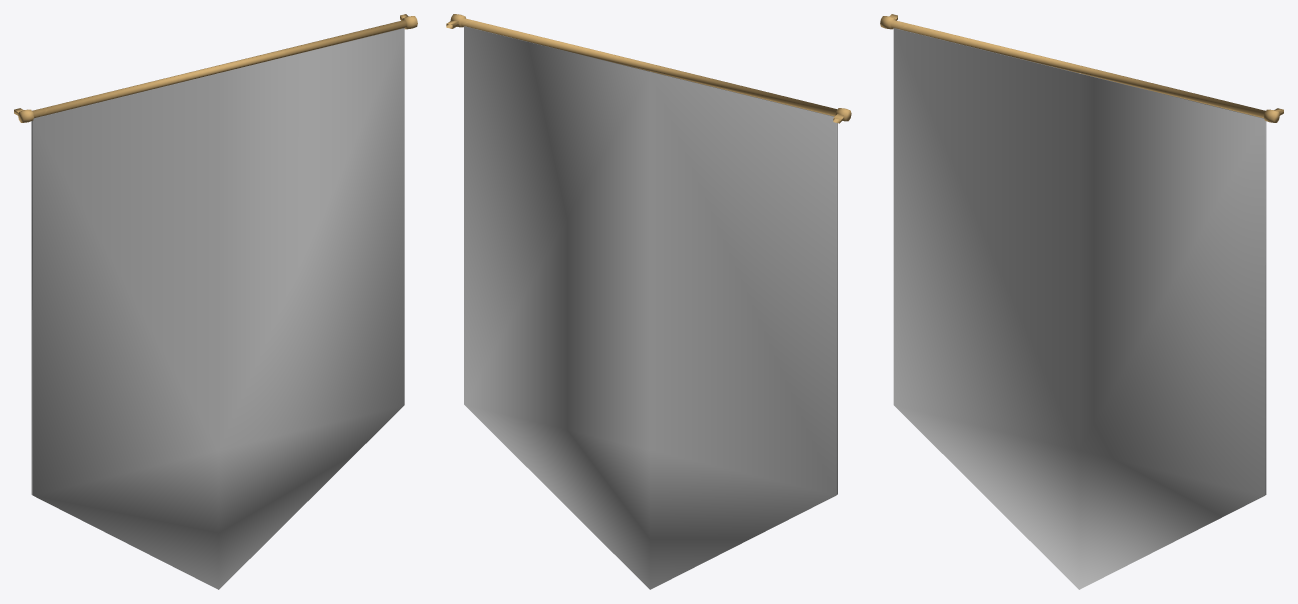
The model's file is Bar Hut Banner.fbx.
3 views of the same model, side by side, from view 1: azimuth 30°, elevation 25°; view 2: azimuth 150°, elevation 25°; view 3: azimuth 330°, elevation 25° (orthographic).
Visible parts, largest first — view 1: BarBanner; view 2: BarBanner; view 3: BarBanner.
Boxes of the visible parts, x1,y1,x2,y2 form: BarBanner: (14, 14, 417, 589); BarBanner: (446, 14, 851, 589); BarBanner: (880, 14, 1283, 589).
Size of the model in its own units: 348 by 445 by 17.33.
